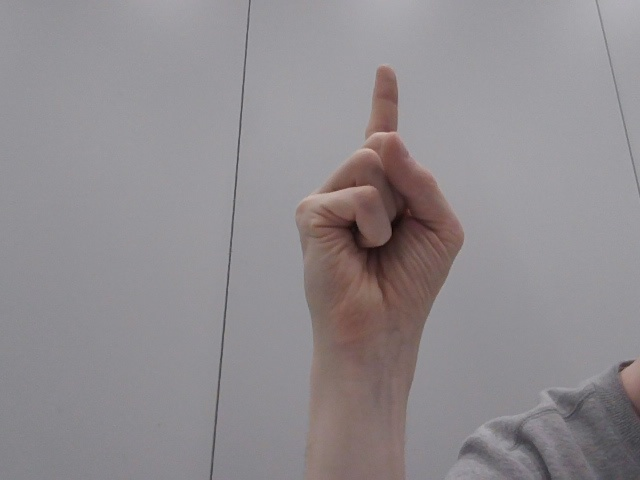up: (275, 50, 477, 366)
